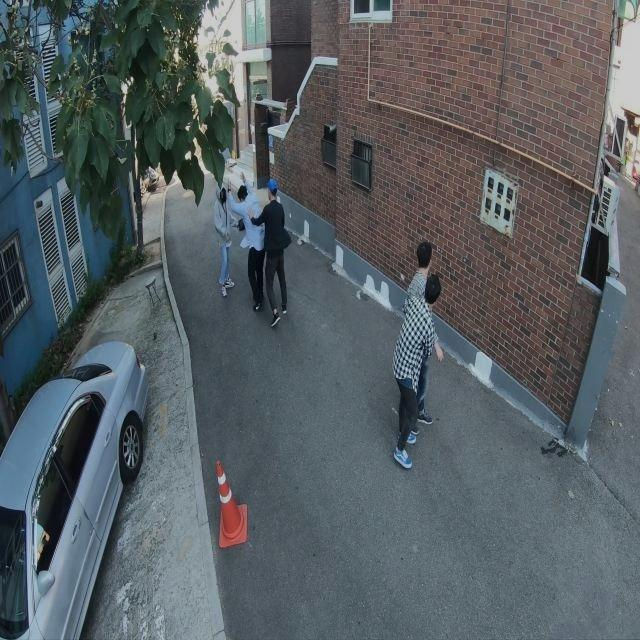fight: (242, 183, 292, 327)
non-fight: (390, 256, 440, 468), (210, 179, 239, 303)
